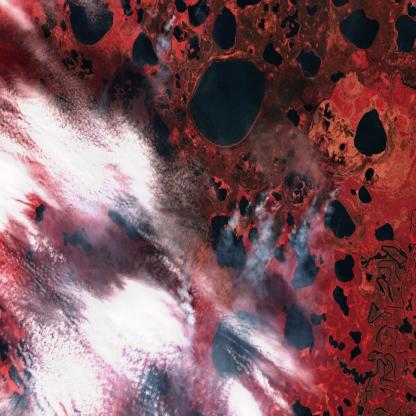fire: (224, 184, 345, 228), (163, 3, 181, 34)
